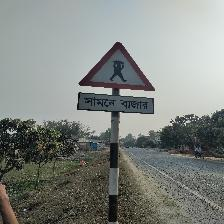Market-in-front: (78, 42, 156, 115)
